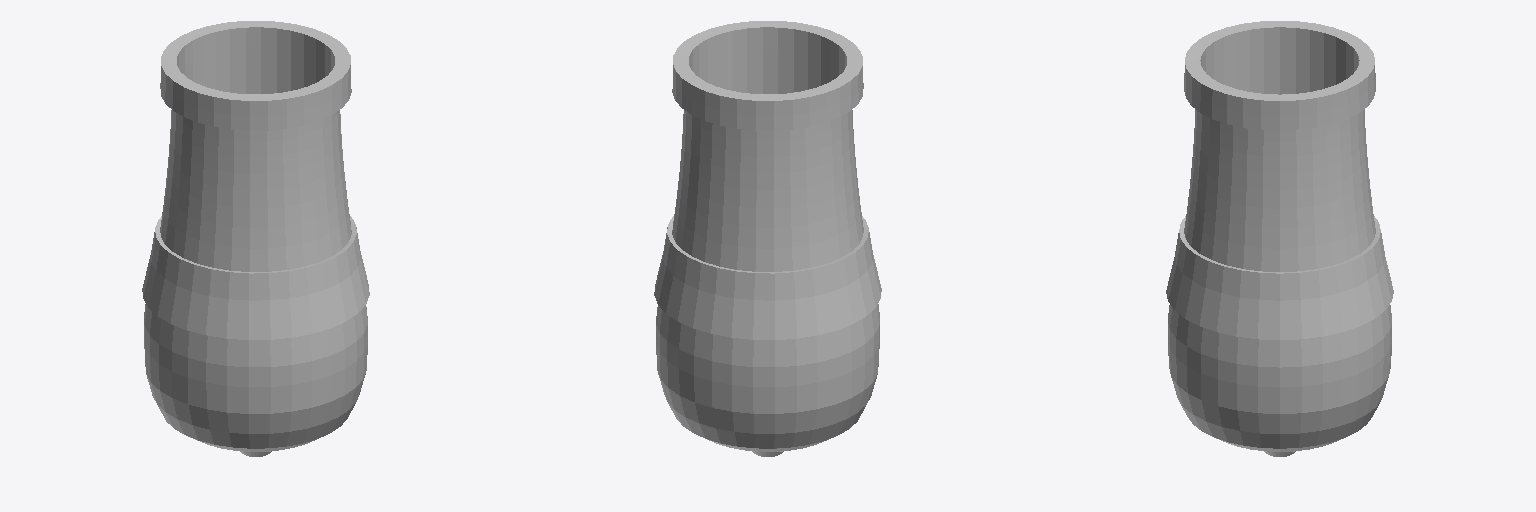
Rendered from cannon_1.obj.
3 views of the same model, side by side, from view 1: azimuth 30°, elevation 25°; view 2: azimuth 150°, elevation 25°; view 3: azimuth 270°, elevation 25° (orthographic).
Visible parts, largest first — view 1: 炮管.003_柱体.009; view 2: 炮管.003_柱体.009; view 3: 炮管.003_柱体.009.
Part boxes in pixels (bbox=[...]): 炮管.003_柱体.009: bbox=[142, 21, 369, 456]; 炮管.003_柱体.009: bbox=[654, 21, 881, 456]; 炮管.003_柱体.009: bbox=[1166, 21, 1393, 456].
Size of the model in its own units: 0.86 by 1.62 by 0.86.